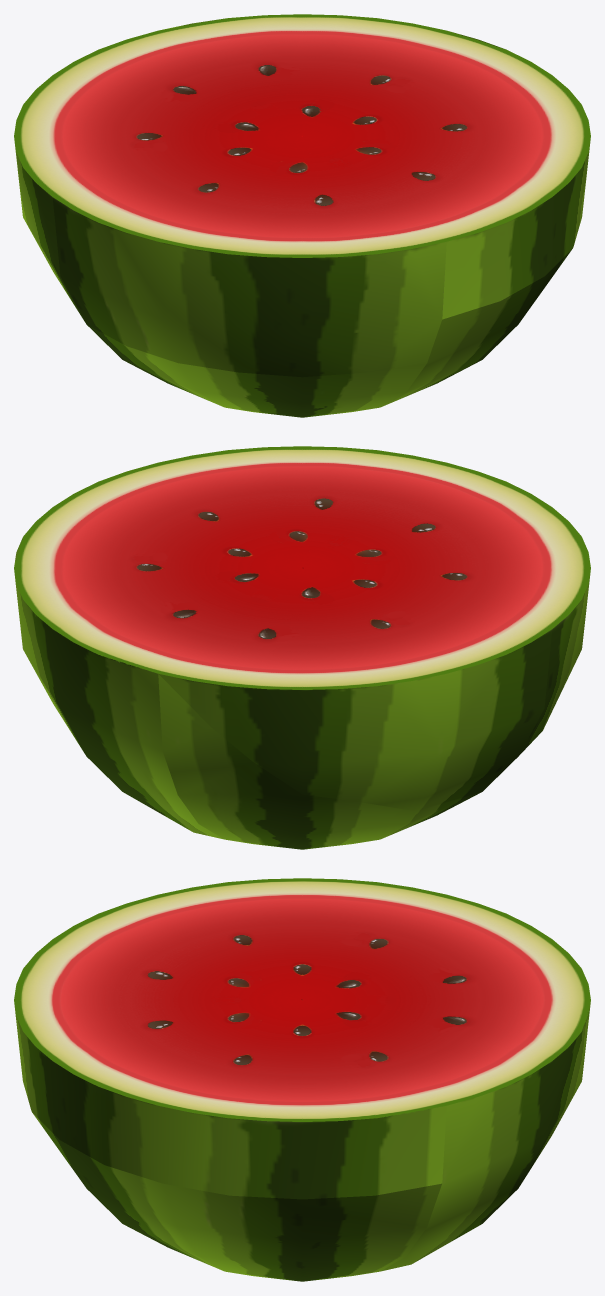
The model's file is Watermelon_piece.fbx.
3 views of the same model, one above another, from view 1: azimuth 30°, elevation 25°; view 2: azimuth 150°, elevation 25°; view 3: azimuth 270°, elevation 25° (orthographic).
Visible parts, largest first — view 1: polySurface50, polySurface53, polySurface52, polySurface55, polySurface51, polySurface54; view 2: polySurface52, polySurface53, polySurface55, polySurface50, polySurface49; view 3: polySurface53, polySurface55, polySurface50, polySurface52, polySurface54.
Part boxes in pixels (bbox=[...]): polySurface50: bbox=[52, 136, 446, 377]; polySurface53: bbox=[303, 30, 590, 319]; polySurface52: bbox=[14, 30, 301, 322]; polySurface55: bbox=[158, 14, 446, 135]; polySurface51: bbox=[87, 135, 426, 417]; polySurface54: bbox=[382, 248, 572, 406]; polySurface52: bbox=[158, 568, 552, 811]; polySurface53: bbox=[14, 446, 446, 648]; polySurface55: bbox=[14, 568, 301, 839]; polySurface50: bbox=[303, 462, 590, 755]; polySurface49: bbox=[158, 674, 481, 849]; polySurface53: bbox=[14, 1000, 446, 1199]; polySurface55: bbox=[303, 1000, 590, 1271]; polySurface50: bbox=[14, 878, 302, 1000]; polySurface52: bbox=[302, 878, 590, 1000]; polySurface54: bbox=[32, 1112, 441, 1281].
Bounding box in the file's own units: 30 × 14.59 × 30.
